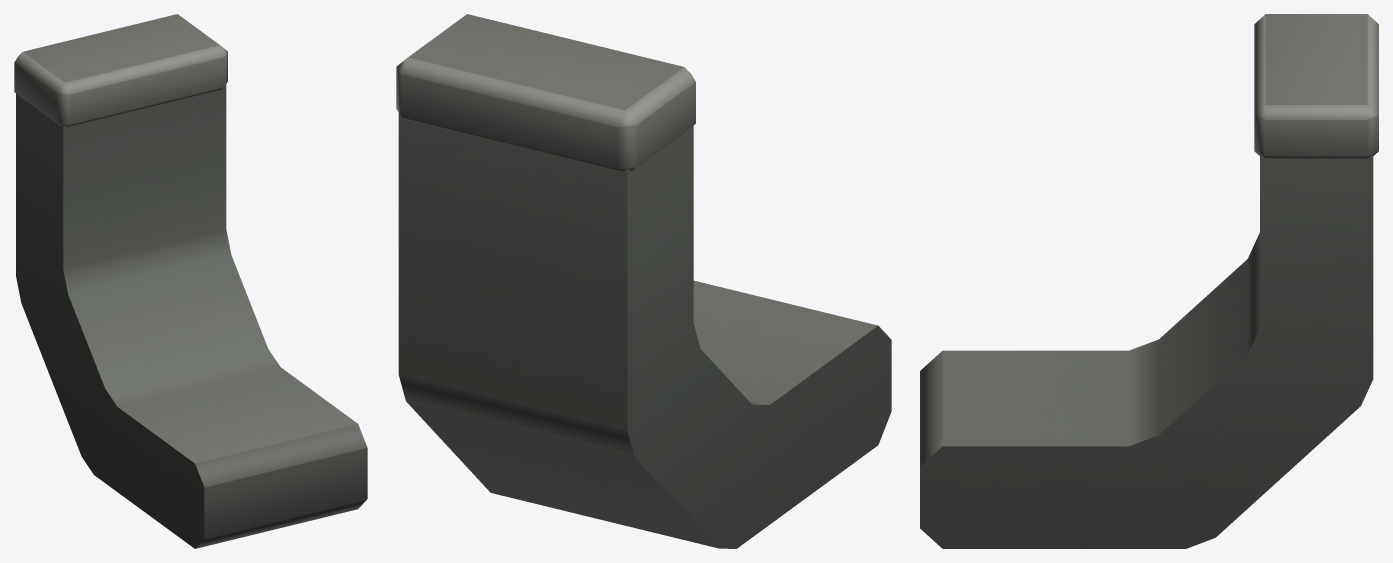
File: canal_wall_section_x1.fbx
3 views of the same model, side by side, from view 1: azimuth 30°, elevation 25°; view 2: azimuth 150°, elevation 25°; view 3: azimuth 270°, elevation 25° (orthographic). The views are drawn at different scales.
Visible parts, largest first — view 1: canal_wall_section_x1; view 2: canal_wall_section_x1; view 3: canal_wall_section_x1.
Boxes of the visible parts, x1=… form: canal_wall_section_x1: x1=14, y1=14, x2=367, y2=548; canal_wall_section_x1: x1=396, y1=14, x2=891, y2=548; canal_wall_section_x1: x1=920, y1=14, x2=1378, y2=548.
Size of the model in its own units: 210 by 430 by 405.
